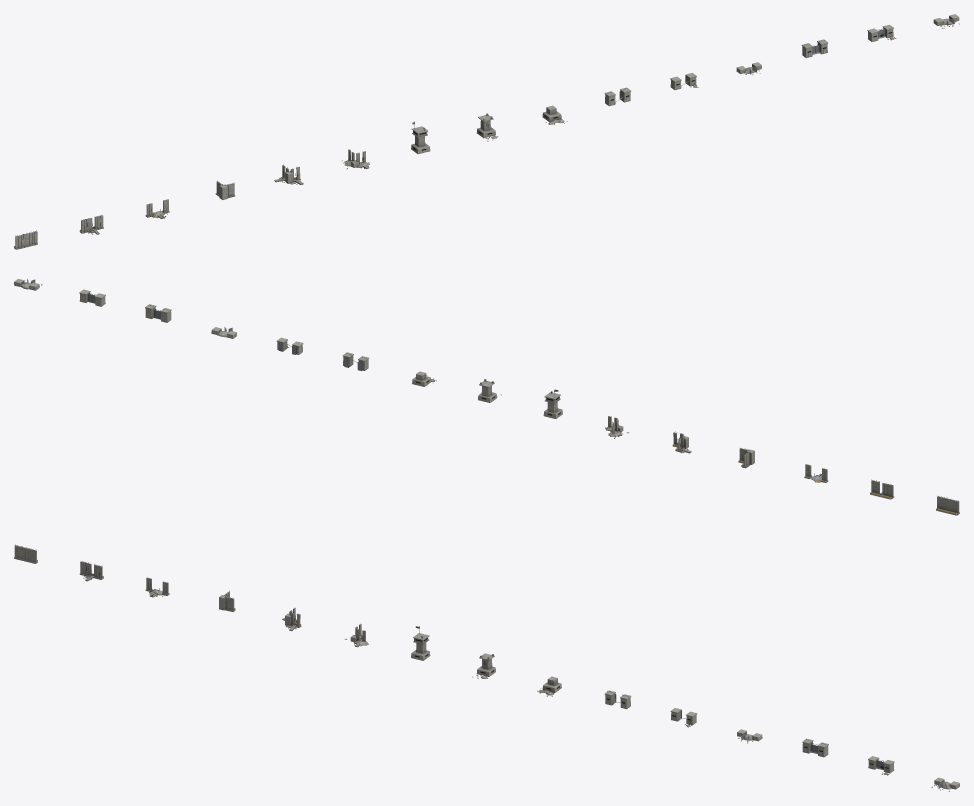
File: walls-modern.glb
3 renders of one model, top to bottom at view 1: azimuth 30°, elevation 25°; view 2: azimuth 150°, elevation 25°; view 3: azimuth 330°, elevation 25°, orthographic.
Size of what is drawn, in the model's own units: 43 by 1.24 by 1.42.
2 materials, 2 textured.
